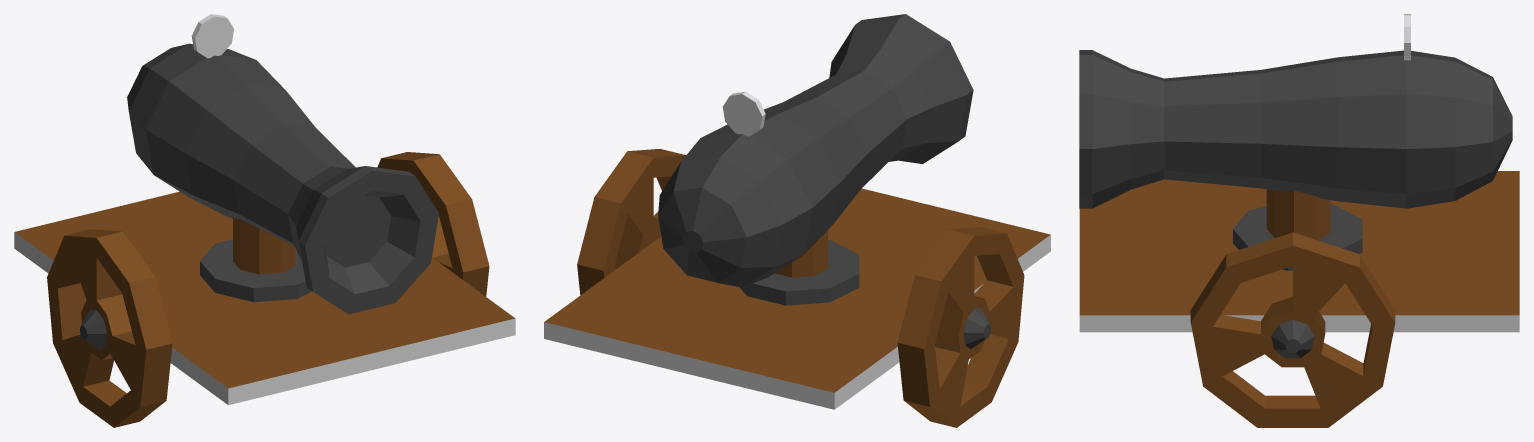
File: Canhao_Nv2.glb
The picture shows the model from 3 angles, left to right: view 1: azimuth 30°, elevation 25°; view 2: azimuth 150°, elevation 25°; view 3: azimuth 270°, elevation 25°; orthographic projection. The views are drawn at different scales.
Visible parts, largest first — view 1: NIVEL2, Turret; view 2: NIVEL2, Turret; view 3: NIVEL2, Turret.
Part boxes in pixels (<box>): NIVEL2: <box>14,152,515,427</box>; Turret: <box>127,14,438,314</box>; NIVEL2: <box>544,149,1050,427</box>; Turret: <box>658,14,973,305</box>; NIVEL2: <box>1079,171,1519,427</box>; Turret: <box>1079,14,1512,270</box>.
Size of the model in its own units: 1.12 by 0.9193 by 1.12.
